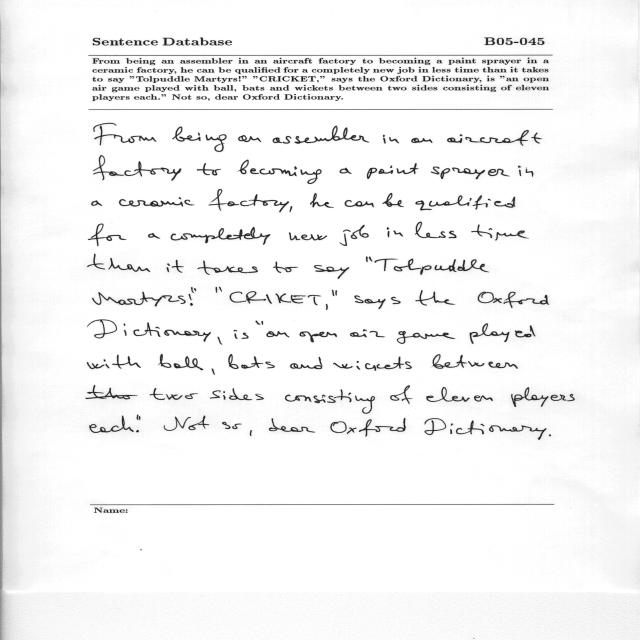word: (87, 320, 211, 342), (425, 418, 547, 440), (93, 155, 182, 181), (285, 389, 375, 414), (238, 159, 322, 184), (374, 258, 489, 275), (209, 190, 289, 213), (171, 227, 271, 245), (273, 126, 369, 144), (416, 195, 516, 211), (447, 130, 542, 146), (172, 126, 227, 152), (94, 123, 156, 146), (93, 292, 186, 307), (470, 323, 536, 344), (330, 418, 406, 436), (432, 354, 518, 369), (230, 291, 322, 305), (511, 387, 575, 407), (333, 356, 412, 371), (478, 292, 549, 308), (88, 254, 150, 272), (426, 387, 493, 402), (431, 167, 510, 179), (471, 225, 529, 241), (197, 260, 258, 275), (88, 224, 127, 247), (367, 163, 419, 179), (158, 354, 203, 371), (86, 385, 137, 400), (87, 355, 141, 369), (397, 331, 455, 344), (119, 197, 194, 207), (90, 416, 134, 433), (228, 354, 275, 369), (269, 418, 315, 433), (164, 416, 209, 431), (415, 222, 456, 238), (210, 388, 264, 400), (415, 290, 455, 306), (340, 225, 369, 246), (355, 296, 401, 309), (150, 388, 199, 400), (314, 265, 349, 279), (262, 321, 290, 337), (390, 385, 413, 404), (299, 332, 337, 343), (290, 357, 322, 369), (310, 193, 334, 208), (382, 193, 404, 207), (289, 233, 327, 241), (273, 261, 298, 273), (197, 163, 221, 175), (350, 330, 385, 338), (167, 260, 184, 273), (345, 200, 374, 207), (387, 227, 403, 238), (519, 166, 534, 177), (238, 135, 261, 142), (383, 135, 399, 144), (222, 422, 242, 429), (234, 330, 249, 339), (189, 287, 196, 306), (412, 138, 433, 143), (340, 168, 352, 174), (148, 233, 160, 239), (92, 200, 102, 206), (218, 337, 223, 345), (366, 256, 372, 262), (332, 290, 337, 296), (211, 369, 215, 375), (256, 321, 261, 325), (137, 415, 141, 420), (290, 206, 293, 212), (219, 287, 222, 292), (216, 287, 218, 293), (326, 304, 328, 310), (250, 430, 252, 436), (136, 430, 139, 432), (549, 435, 551, 437)
